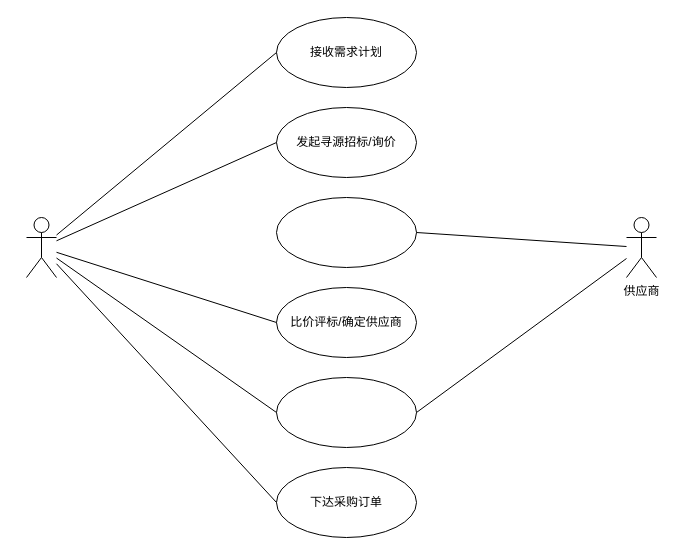
Image size: 677x555. Some labels were removed from this diagram. The shapes that lost their labels are listed below. From the top down, each one's centre as x and y in pixels, then its label:
At pixel 41 247: "采购专员".
At pixel 346 232: "投标报价".
At pixel 346 412: "签署采购合同".
